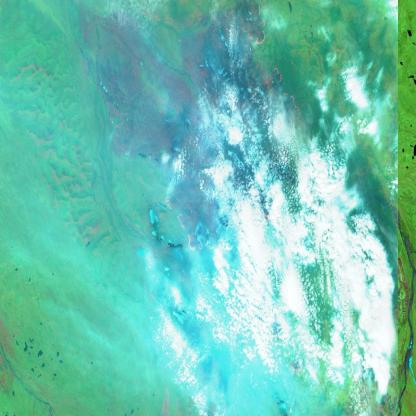fire: (237, 1, 313, 124), (157, 191, 231, 263), (281, 350, 316, 390)
